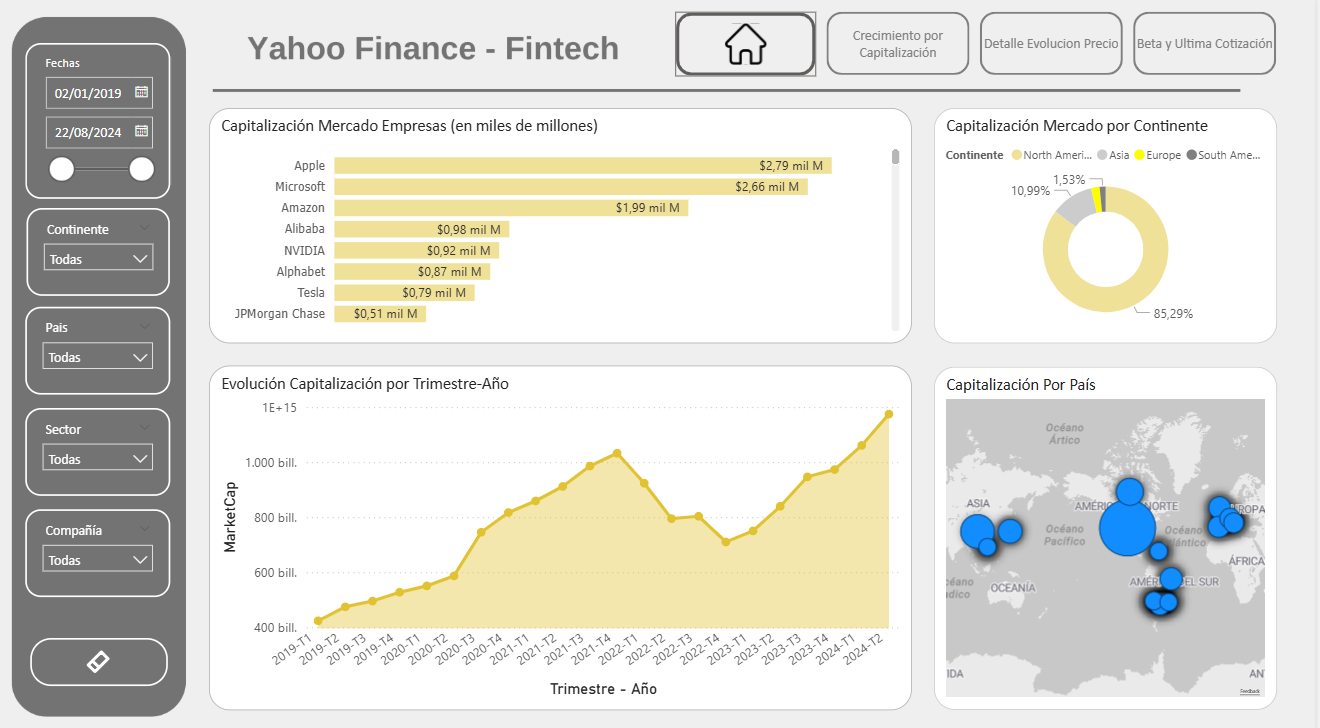

Layout of this report page (visuals, bound fields, positions):
{"tool":"powerbi","page":{"name":"Capitalización de Mercado","canvas":[1280,720],"ordinal":1},"visuals":[{"type":"lineChart","title":"Evolución Capitalización por Trimestre-Año","fields":{"Category":["Dim_Calendario.Trimestre_Año"],"Y":["Medidas.MarketCap"]},"box":[212.5,360,678.8,332.5],"z":0},{"type":"donutChart","title":"Capitalización Mercado por Continente","fields":{"Y":["Medidas.MarketCap"],"Category":["fintechs_data.Continente"]},"box":[912.5,111.2,331.2,227.5],"z":1000},{"type":"barChart","title":"Capitalización Mercado Empresas (en miles de millones)","fields":{"Category":["fintechs_data.Nombre Compania"],"Y":["Medidas.Market Cap Millones"]},"box":[212.5,111.2,678.8,227.5],"z":2000},{"type":"slicer","fields":{"Values":["Dim_Calendario.Date"]},"box":[35,48.5,140,150],"z":3000},{"type":"slicer","fields":{"Values":["fintechs_data.Continente"]},"box":[36.2,207.3,138.8,85],"z":4000},{"type":"slicer","fields":{"Values":["fintechs_data.Pais"]},"box":[35,302.3,140,85],"z":5000},{"type":"slicer","fields":{"Values":["fintechs_data.Sector"]},"box":[35,401,140,85],"z":6000},{"type":"slicer","fields":{"Values":["fintechs_data.Nombre Compania"]},"box":[35,498.5,140,85],"z":7000},{"type":"azureMap","title":"Capitalización Por País","fields":{"Size":["Medidas.MarketCap"],"Category":["fintechs_data.Pais"]},"box":[912.5,361.2,331.2,331.2],"z":8000},{"type":"actionButton","box":[40,622.5,132.5,46.2],"z":9000},{"type":"pageNavigator","box":[808.3,18.1,435.5,61.5],"z":10000},{"type":"actionButton","box":[662.3,18.1,136.3,62.7],"z":11000}]}

Visuals, with their boxes in screenshot pixels (x1, y1, x2, y2), scaled from the page's 1280x720 canvas onto the 1320x728 screenshot:
"Evolución Capitalización por Trimestre-Año" lineChart: [left=219, top=364, right=919, bottom=700]
"Capitalización Mercado por Continente" donutChart: [left=941, top=112, right=1283, bottom=342]
"Capitalización Mercado Empresas (en miles de millones)" barChart: [left=219, top=112, right=919, bottom=342]
slicer - Dim_Calendario.Date: [left=36, top=49, right=180, bottom=201]
slicer - fintechs_data.Continente: [left=37, top=210, right=180, bottom=296]
slicer - fintechs_data.Pais: [left=36, top=306, right=180, bottom=392]
slicer - fintechs_data.Sector: [left=36, top=405, right=180, bottom=491]
slicer - fintechs_data.Nombre Compania: [left=36, top=504, right=180, bottom=590]
"Capitalización Por País" azureMap: [left=941, top=365, right=1283, bottom=700]
actionButton: [left=41, top=629, right=178, bottom=676]
pageNavigator: [left=834, top=18, right=1283, bottom=80]
actionButton: [left=683, top=18, right=824, bottom=82]
